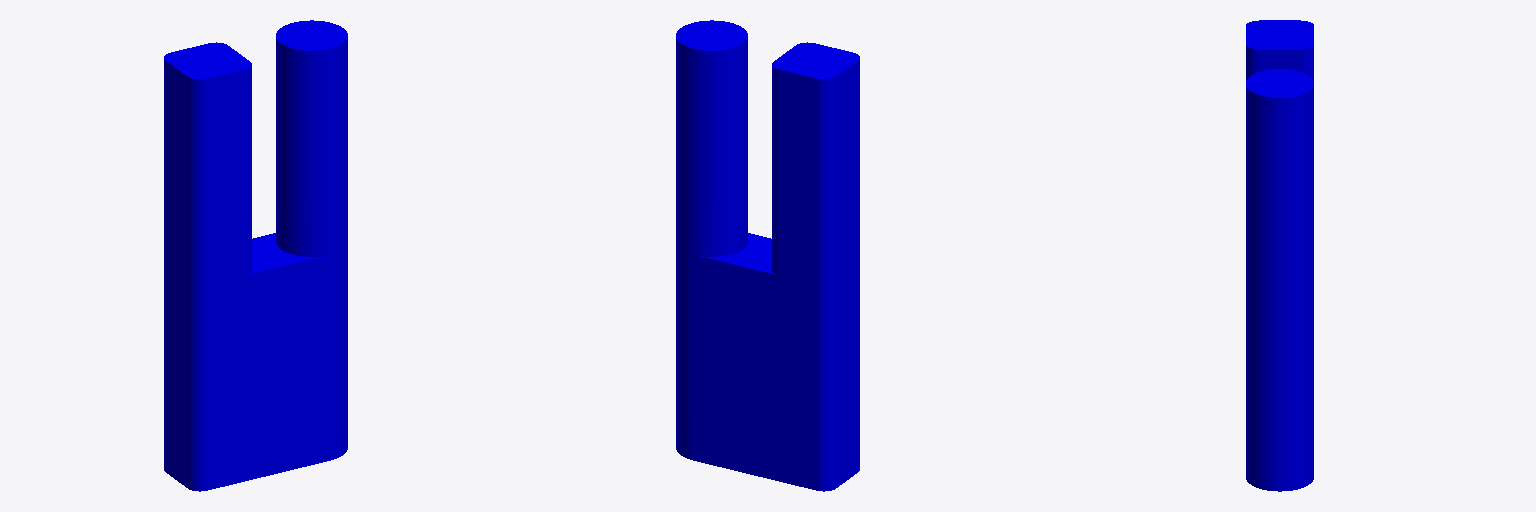
URDF robot description (board1_block13):
<?xml version="1.0"?>
<robot name="board1_block13">
    <link name="board1_block13">
        <visual>
            <origin xyz="0 0 0 " rpy=" 0 0 0"/>
            <geometry>
                <mesh filename="../meshes/SIMO_Board1_Block13.stl" scale="0.001 0.001 0.001"/>
            </geometry>
            <material name="red">
                <color rgba="0.0 0.0 1.0 1.0"/>
            </material>
        </visual>
        <collision>
            <origin xyz="0 0 0" rpy="0 0 0"/>
            <geometry>
                <mesh filename="../meshes/SIMO_Board1_Block13.stl" scale="0.001 0.001 0.001"/>
            </geometry>
        </collision>
    </link>
</robot>

--- Facts derived from the render (not from the file) ---
3 views of the same robot in one strip: view 1: azimuth 30°, elevation 25°; view 2: azimuth 150°, elevation 25°; view 3: azimuth 270°, elevation 25° (orthographic).
Robot: board1_block13 — 1 links, 0 joints (none); root link board1_block13; default pose: all joints at 0.
Links seen in each view (by area): view 1: board1_block13; view 2: board1_block13; view 3: board1_block13.
Boxes of the visible links, <box> form: board1_block13: <box>164,20,347,491</box>; board1_block13: <box>676,20,859,491</box>; board1_block13: <box>1246,20,1313,491</box>.
Bounding box of the posed robot: 0.0634 × 0.0238 × 0.15 m (x, y, z).
1 mesh visuals loaded from 1 distinct referenced files (1 ASCII STL).
